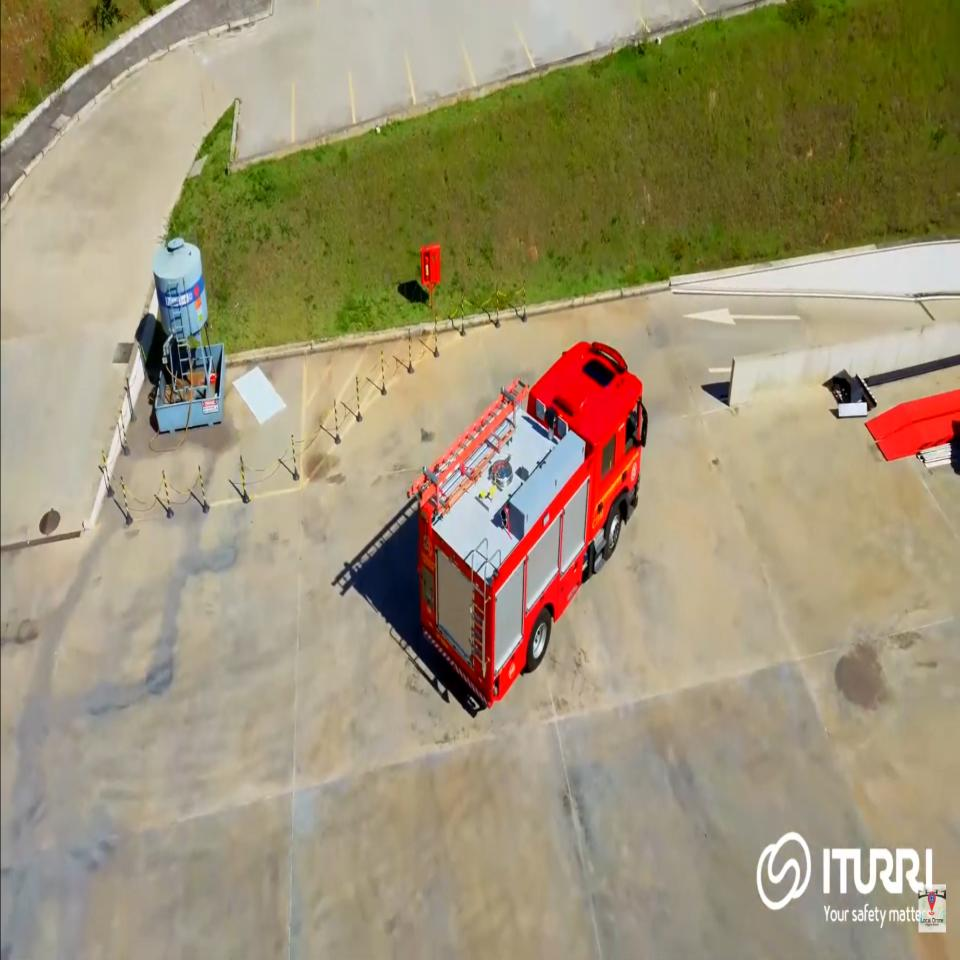viatura: (406, 334, 650, 712)
